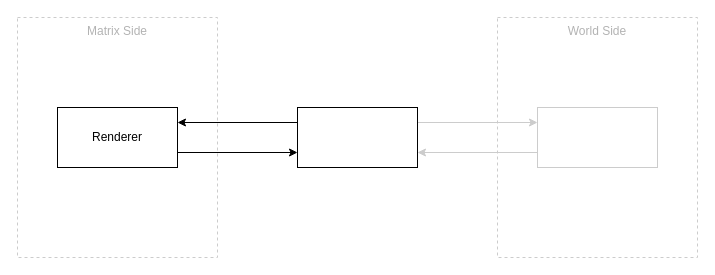
Image size: 715x275. Some labels were removed from this diagram. Here are the shapes that lost their labels. From the top down, the centre of each, then its label:
(357,137): Engine
(597,137): Agent
